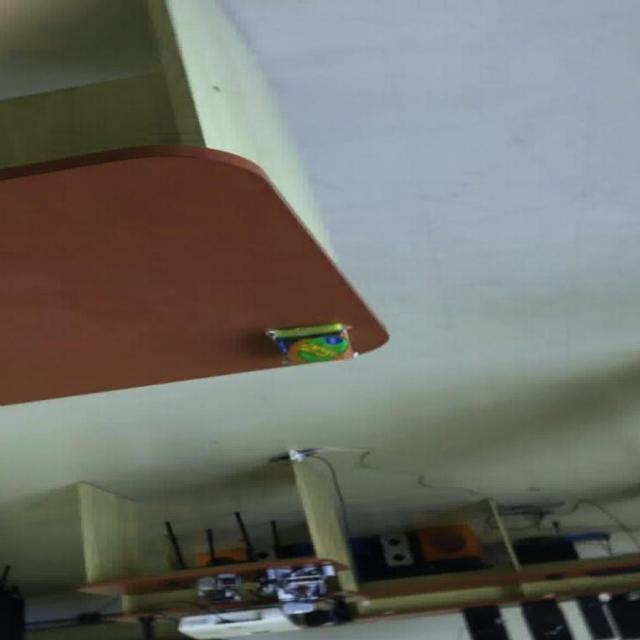Sponge: (0, 143, 389, 409), (263, 321, 353, 364)
